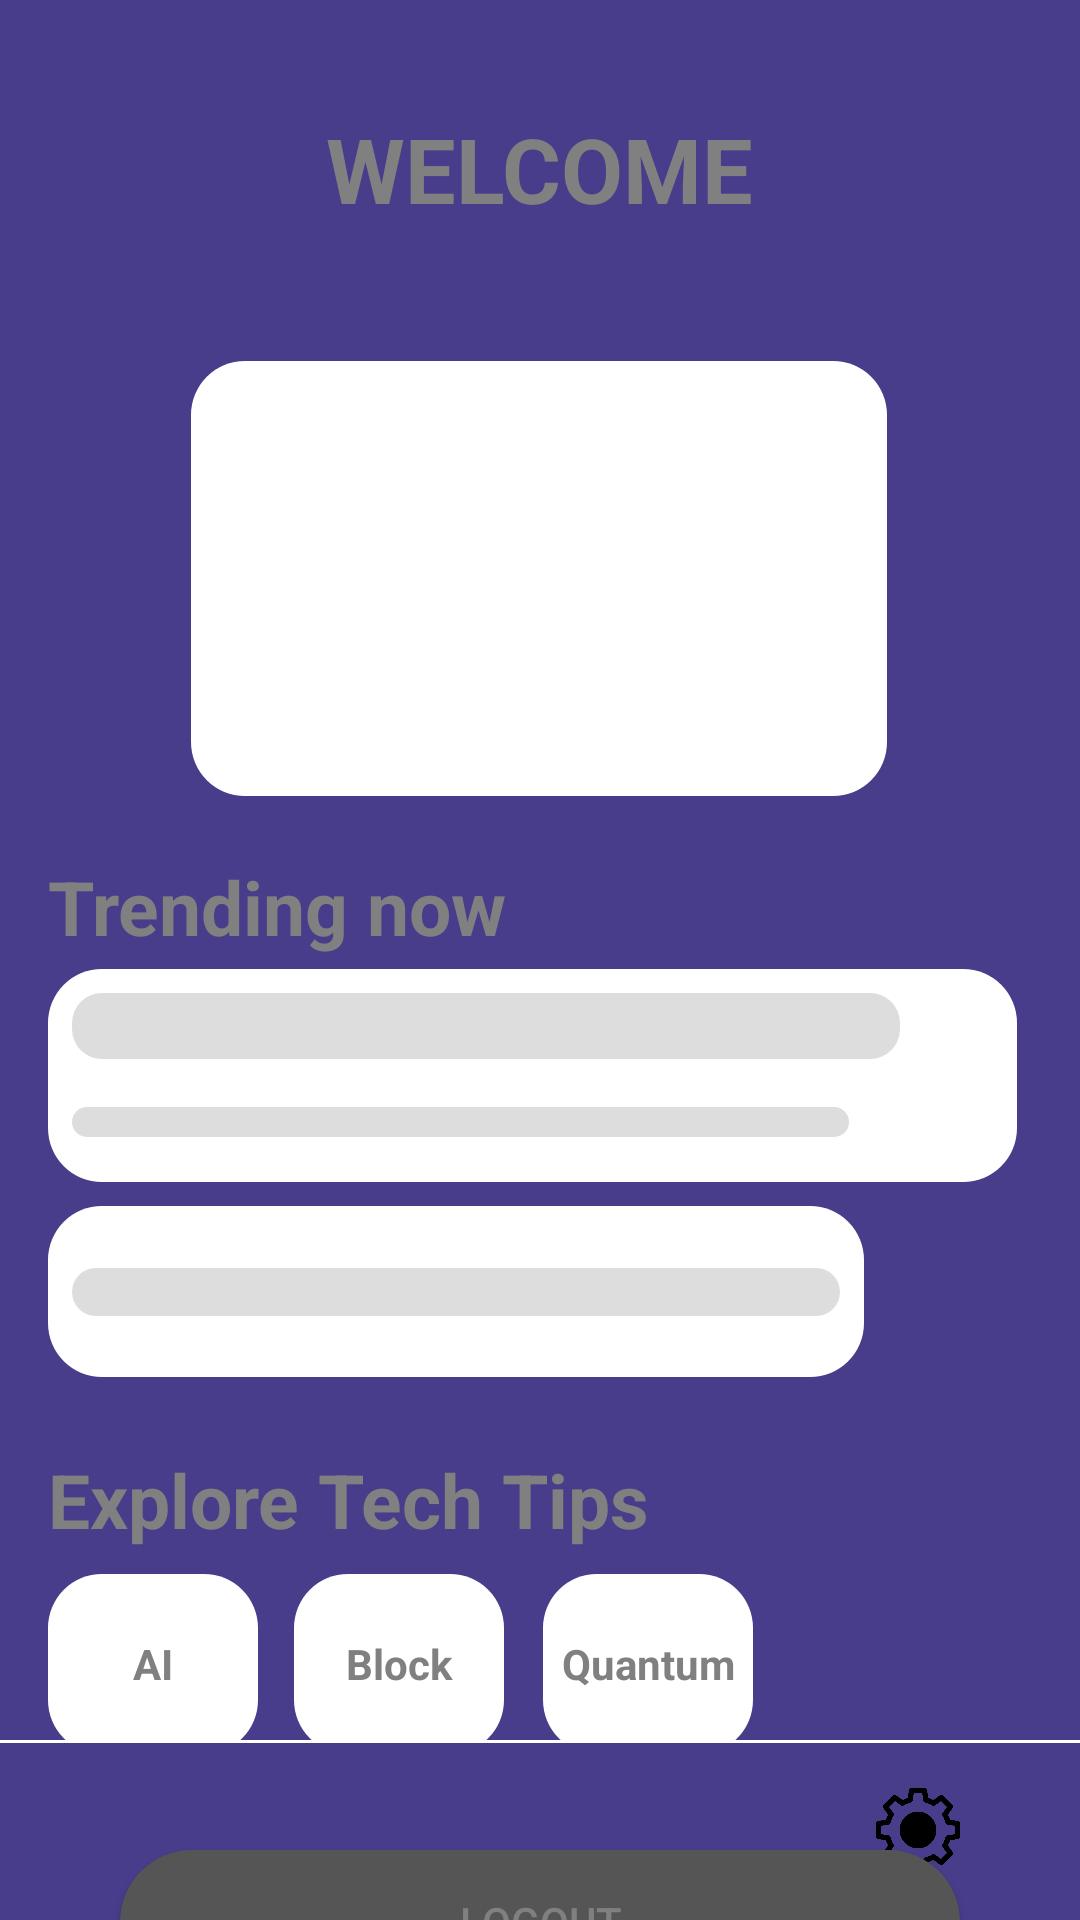

Icon bounding boxes for this 1080*1920 phone screenshot, format (x1, y1, x2, y2):
setting: (876, 1788, 960, 1872)
